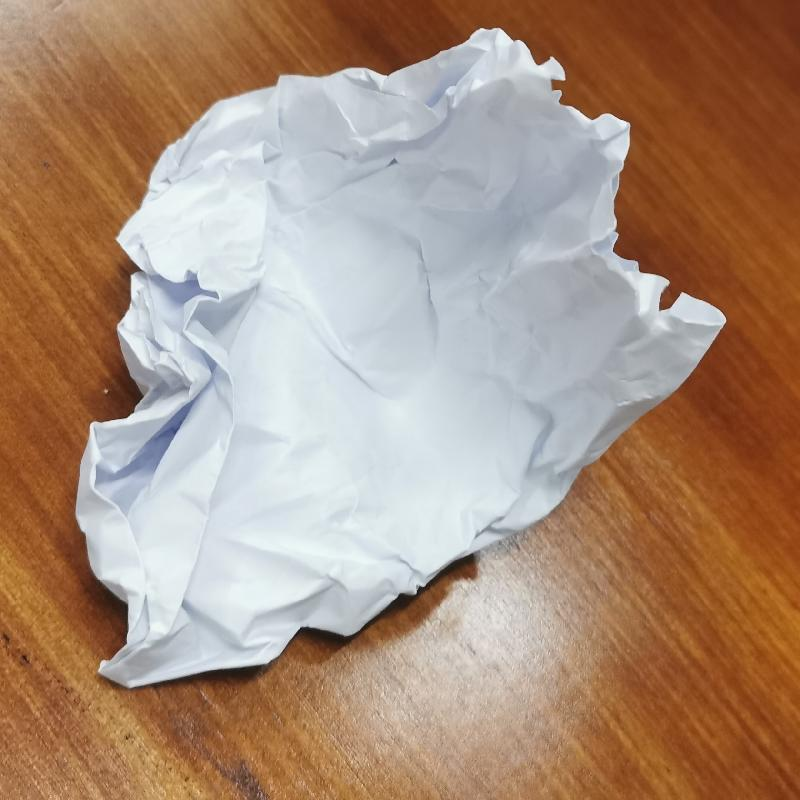spitball: (72, 22, 729, 690)
